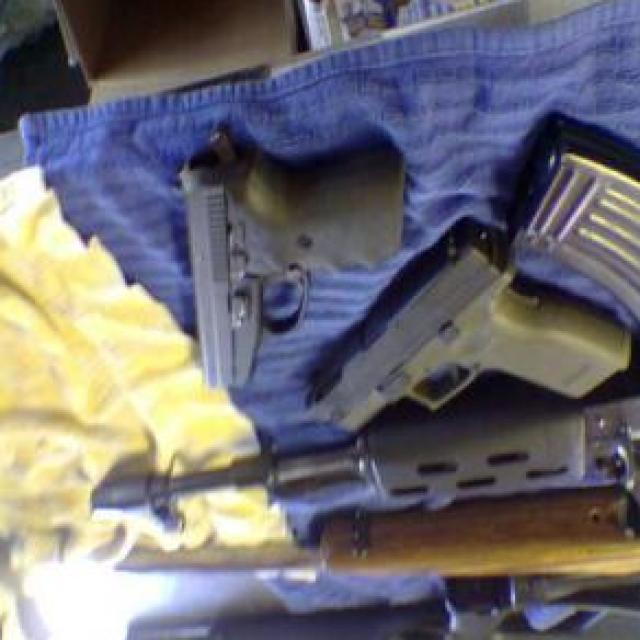pistol: (304, 222, 634, 440), (173, 133, 406, 392)
